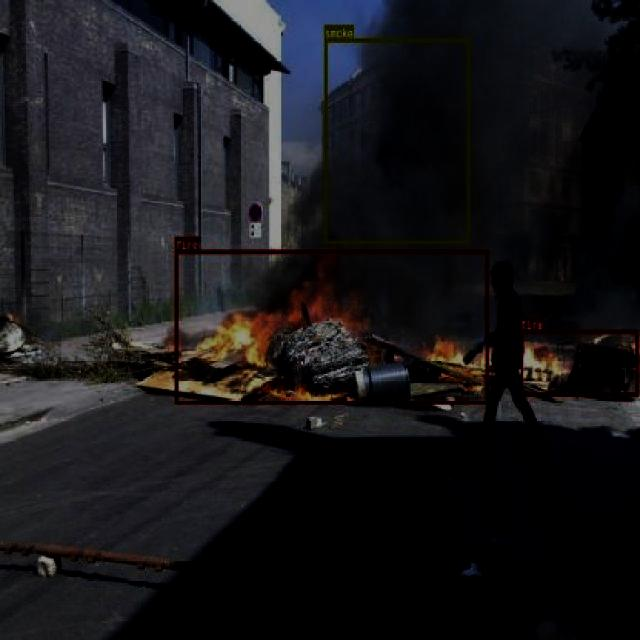fire: (175, 250, 488, 404), (520, 330, 638, 396)
smoke: (324, 38, 470, 242)
